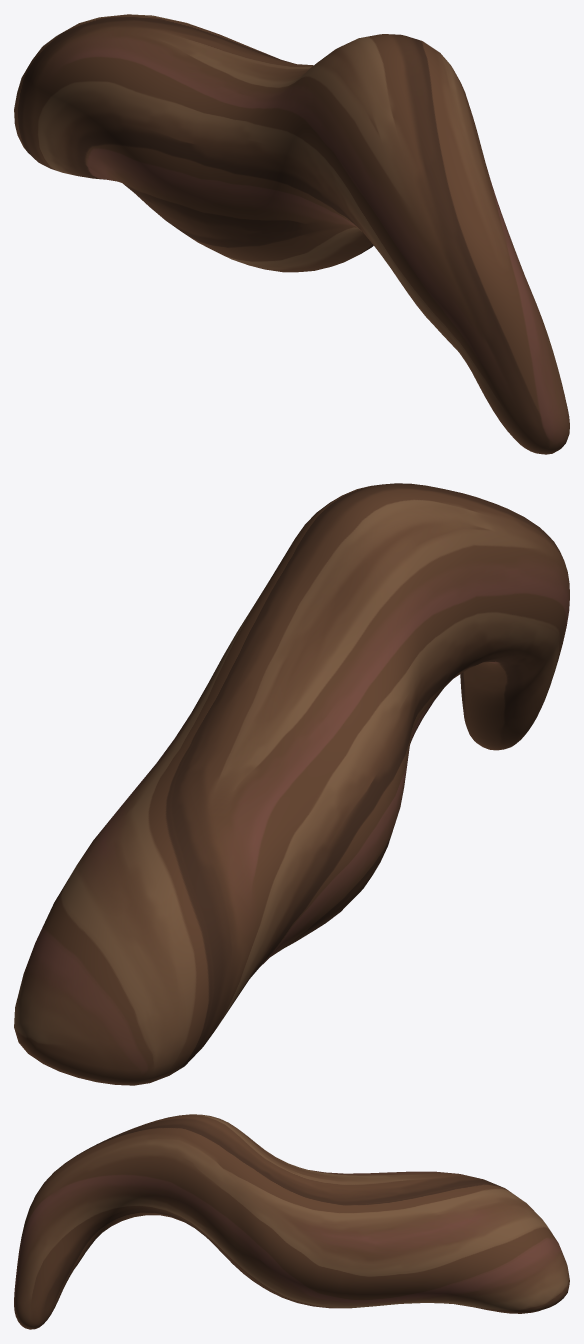
The model's file is AngelRoot3.fbx.
The picture shows the model from 3 angles, top to bottom: view 1: azimuth 30°, elevation 25°; view 2: azimuth 150°, elevation 25°; view 3: azimuth 270°, elevation 25°; orthographic projection. The views are drawn at different scales.
Parts seen in each view (by area): view 1: AngelRoot3; view 2: AngelRoot3; view 3: AngelRoot3.
Boxes of the visible parts, <box> form: AngelRoot3: <box>14,14,569,454</box>; AngelRoot3: <box>14,483,569,1085</box>; AngelRoot3: <box>14,1114,569,1329</box>.
Size of the model in its own units: 89.38 by 134 by 331.
1 material, 1 textured.
